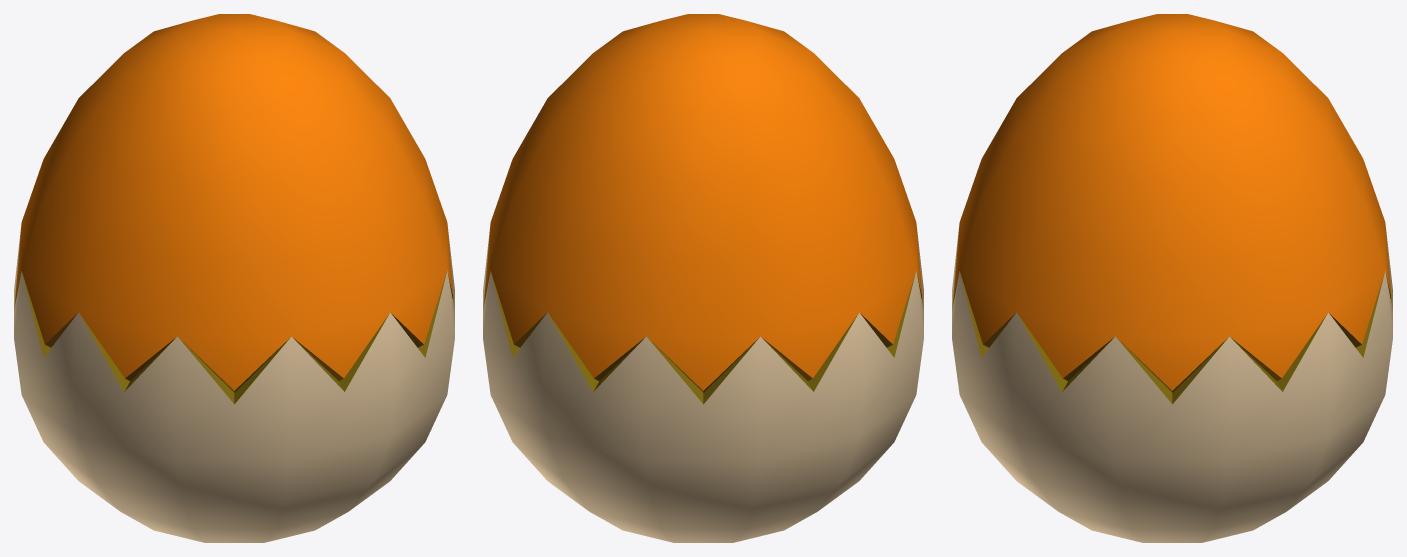
Rendered from Trung.fbx.
3 renders of one model, left to right at view 1: azimuth 30°, elevation 25°; view 2: azimuth 150°, elevation 25°; view 3: azimuth 270°, elevation 25°, orthographic.
Parts seen in each view (by area): view 1: Trung; view 2: Trung; view 3: Trung.
Part boxes in pixels (box(x1,y1,x2,y2)): Trung: box(14, 14, 454, 542); Trung: box(483, 14, 923, 542); Trung: box(952, 14, 1392, 542).
Size of the model in its own units: 33.4 by 41.21 by 33.4.
